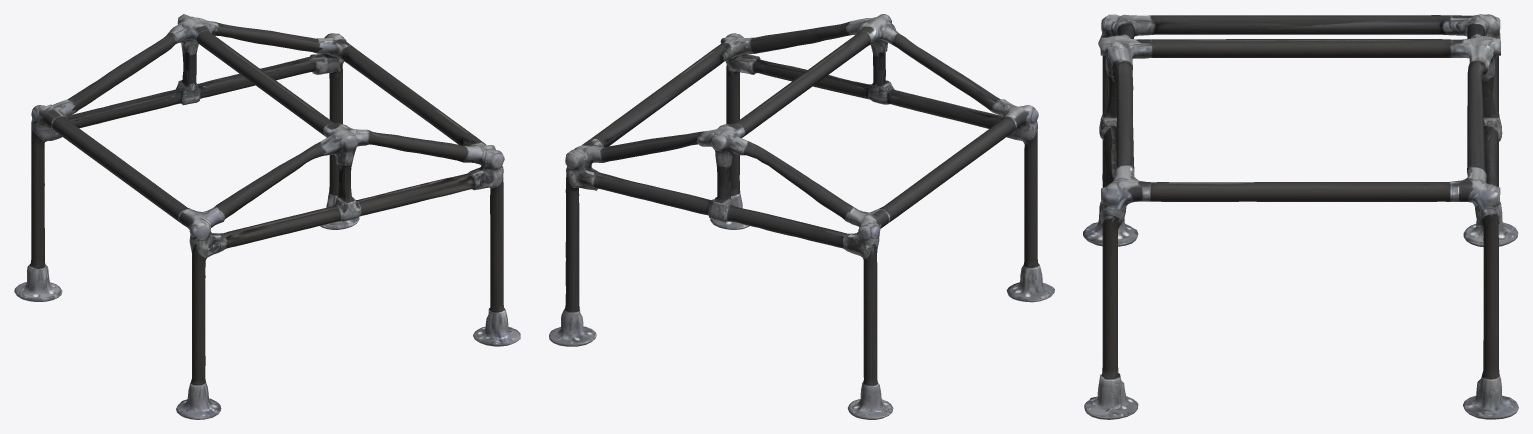
The model's file is Stogas.glb.
3 renders of one model, left to right at view 1: azimuth 30°, elevation 25°; view 2: azimuth 150°, elevation 25°; view 3: azimuth 270°, elevation 25°, orthographic. The views are drawn at different scales.
Bounding box in the file's own units: 1.97 × 1.34 × 1.85.
1 material, 1 textured.
